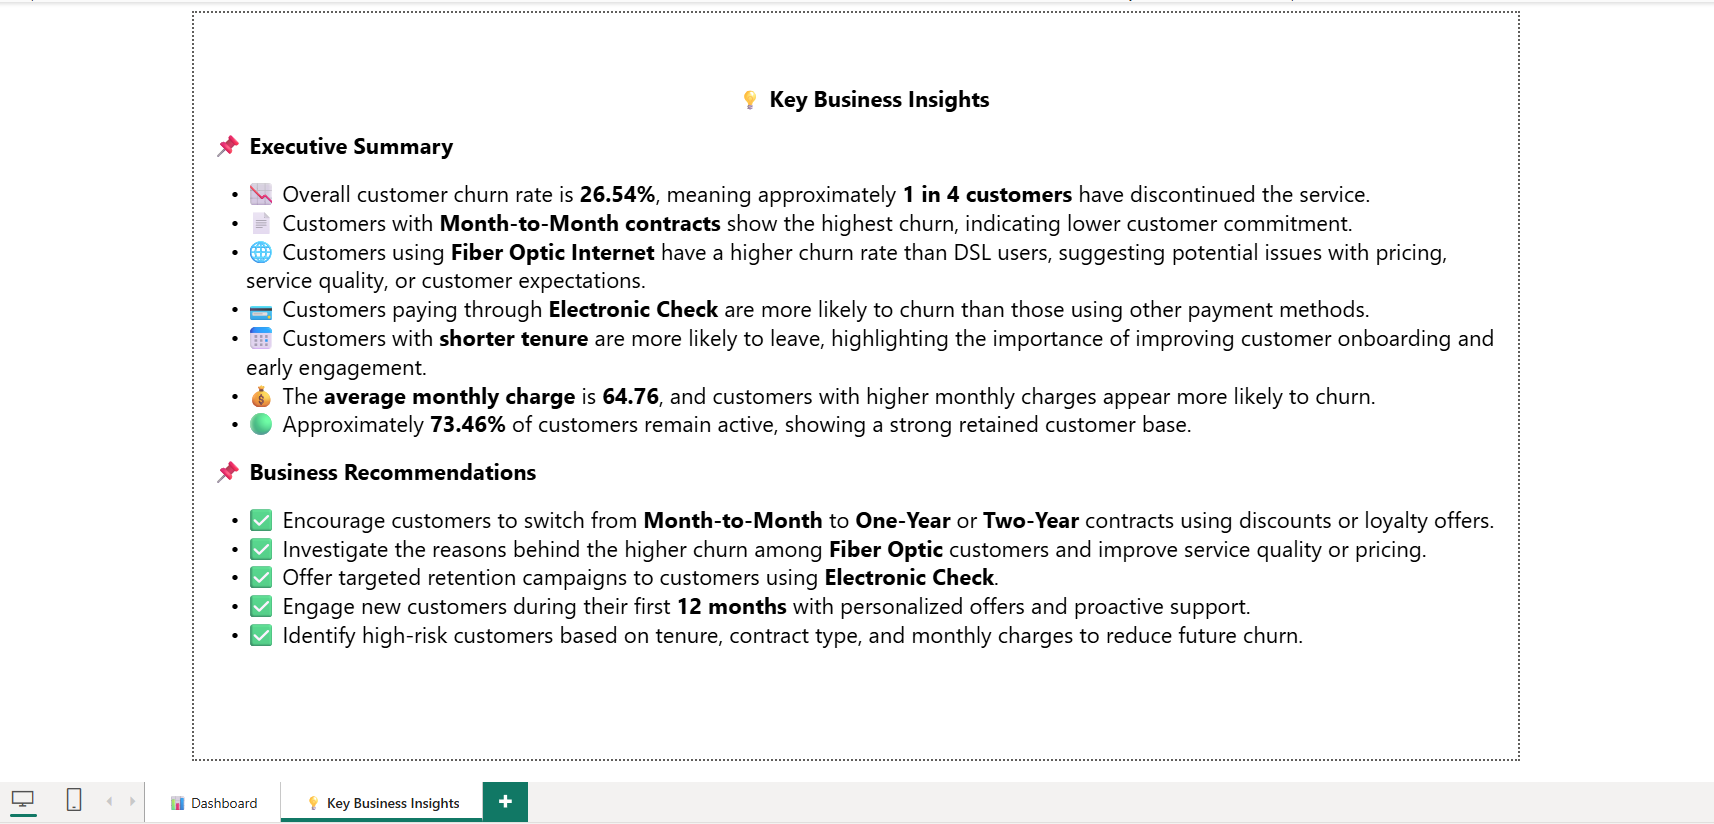

Layout of this report page (visuals, bound fields, positions):
{"tool":"powerbi","page":{"name":"💡 Key Business Insights","canvas":[1280,720],"ordinal":1},"visuals":[{"type":"textbox","box":[13.3,7.7,1266.6,650.5],"z":0}]}

Visuals, with their boxes on the page's 1280x720 design canvas (x1, y1, x2, y2). These are canvas units, not pixel positions in the 1714x824 screenshot, which may show the page scaled, cropped or inside an application window:
textbox: 13,8,1280,658
